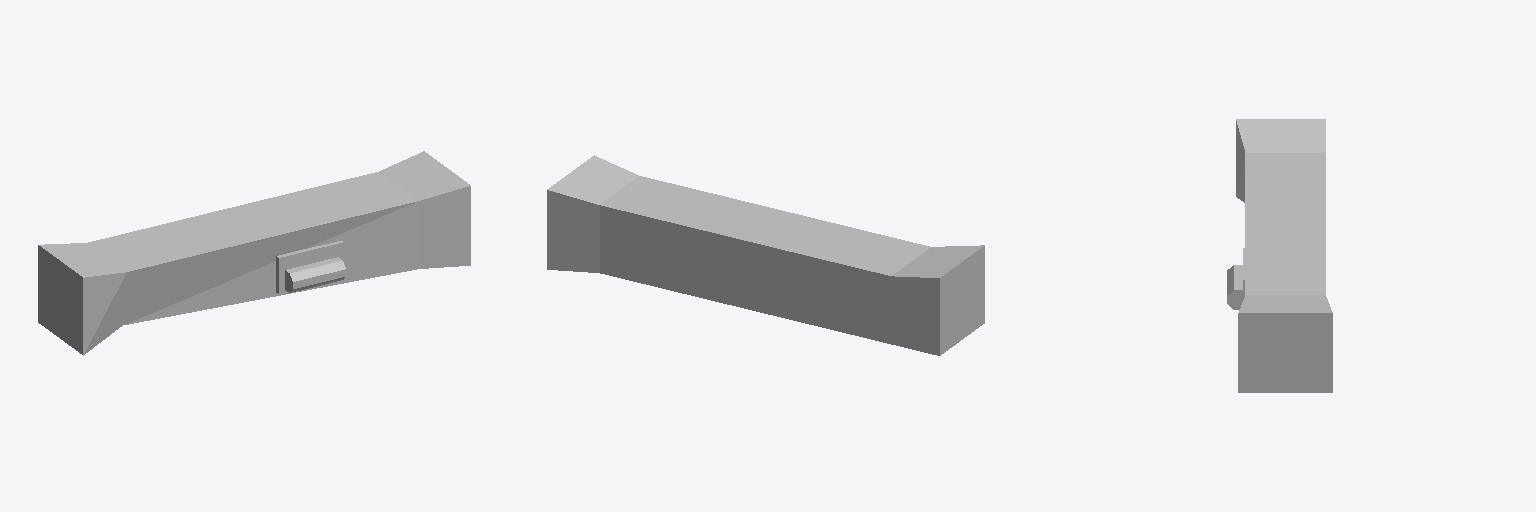
Rendered from SM_Bulk_001.obj.
3 views of the same model, side by side, from view 1: azimuth 30°, elevation 25°; view 2: azimuth 150°, elevation 25°; view 3: azimuth 270°, elevation 25° (orthographic).
Visible parts, largest first — view 1: SM_Bulk_001; view 2: SM_Bulk_001; view 3: SM_Bulk_001.
Boxes of the visible parts, x1=… form: SM_Bulk_001: x1=38, y1=151, x2=470, y2=355; SM_Bulk_001: x1=547, y1=155, x2=984, y2=355; SM_Bulk_001: x1=1227, y1=119, x2=1332, y2=392.
Bounding box in the file's own units: 20.39 × 4.2 × 4.79.